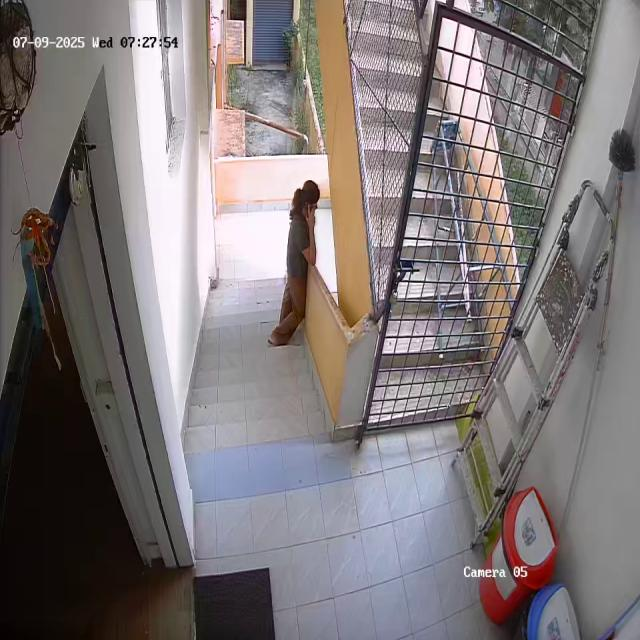person: (276, 178, 321, 346)
